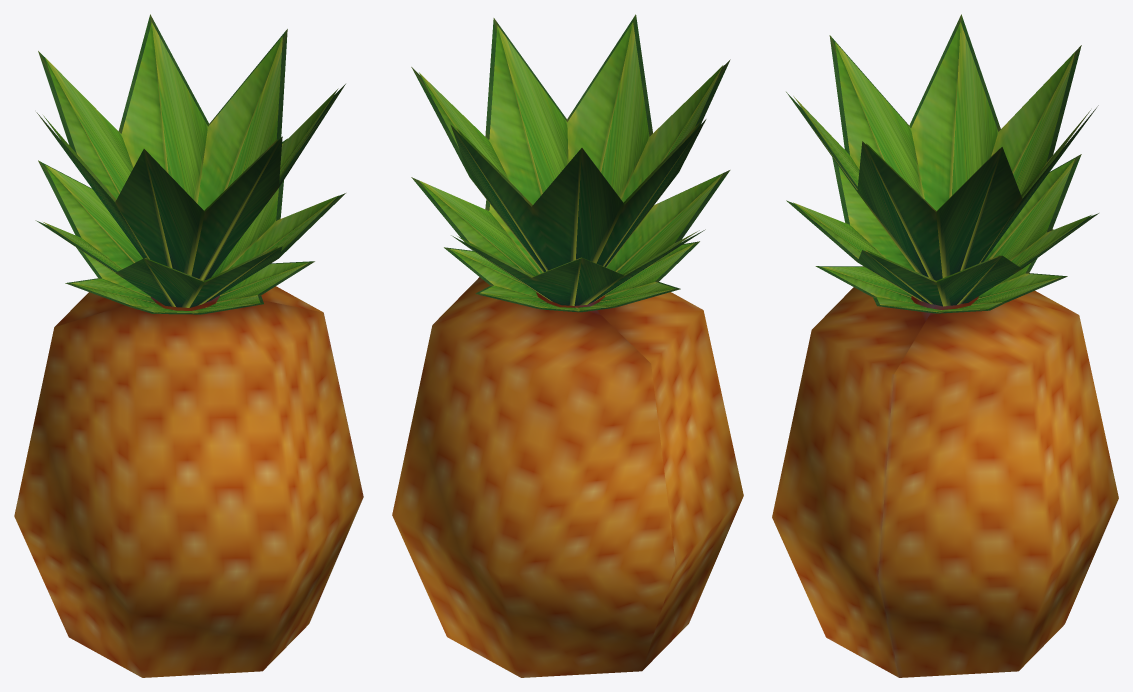
The model's file is Pineapple_01.fbx.
The picture shows the model from 3 angles, left to right: view 1: azimuth 30°, elevation 25°; view 2: azimuth 150°, elevation 25°; view 3: azimuth 270°, elevation 25°; orthographic projection.
Parts seen in each view (by area): view 1: Pineapple_01; view 2: Pineapple_01; view 3: Pineapple_01.
Boxes of the visible parts, <box> form: Pineapple_01: <box>14,14,363,677</box>; Pineapple_01: <box>392,14,743,677</box>; Pineapple_01: <box>772,14,1118,677</box>.
Bounding box in the file's own units: 7.54 × 14.35 × 7.96.
